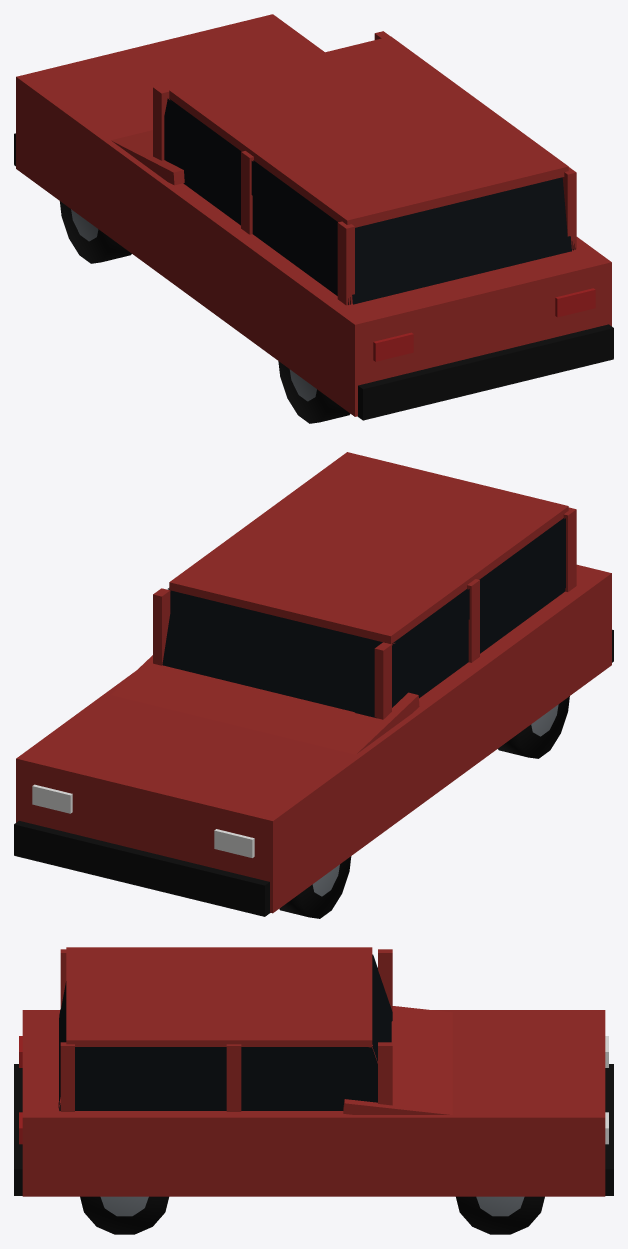
File: vehicle.car.dales_2.glb
The picture shows the model from 3 angles, top to bottom: view 1: azimuth 30°, elevation 25°; view 2: azimuth 150°, elevation 25°; view 3: azimuth 270°, elevation 25°; orthographic projection. The views are drawn at different scales.
Parts seen in each view (by area): view 1: main__enamel_922, main__glass_dark, main__rubber, main__paint_922, main__paint_777; view 2: main__enamel_922, main__glass_dark, main__rubber, main__paint_eed, main__paint_777; view 3: main__enamel_922, main__glass_dark, main__rubber, main__paint_777.
Part boxes in pixels (bbox=[...]): main__enamel_922: bbox=[16, 14, 611, 416]; main__glass_dark: bbox=[164, 98, 575, 304]; main__rubber: bbox=[14, 133, 613, 423]; main__paint_922: bbox=[373, 288, 595, 361]; main__paint_777: bbox=[71, 209, 316, 401]; main__enamel_922: bbox=[16, 452, 611, 913]; main__glass_dark: bbox=[162, 518, 565, 718]; main__rubber: bbox=[14, 629, 613, 918]; main__paint_eed: bbox=[32, 784, 254, 857]; main__paint_777: bbox=[312, 704, 558, 896]; main__enamel_922: bbox=[22, 947, 605, 1196]; main__glass_dark: bbox=[58, 954, 392, 1110]; main__rubber: bbox=[14, 1064, 613, 1234]; main__paint_777: bbox=[100, 1196, 524, 1216].
Size of the model in its own units: 1.75 by 1.44 by 4.12.
